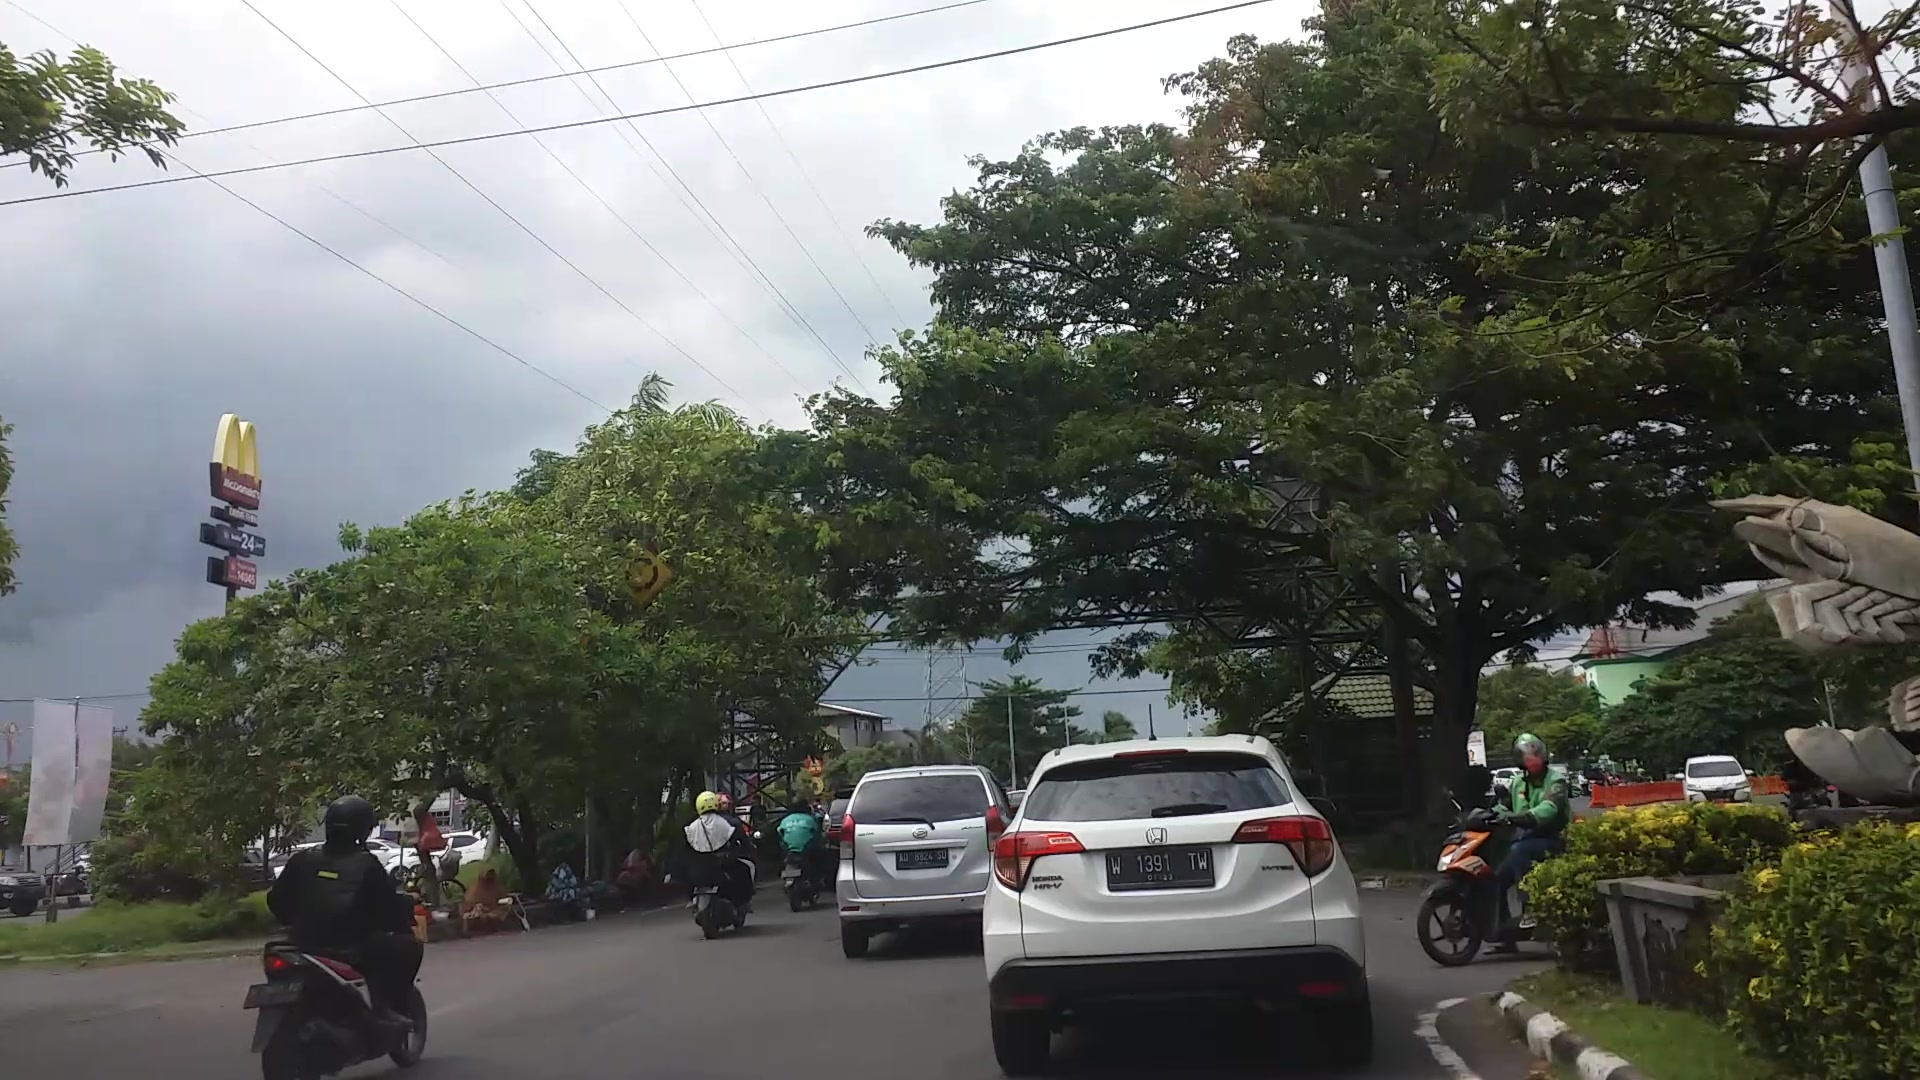plate_positive: (1106, 847, 1215, 890)
